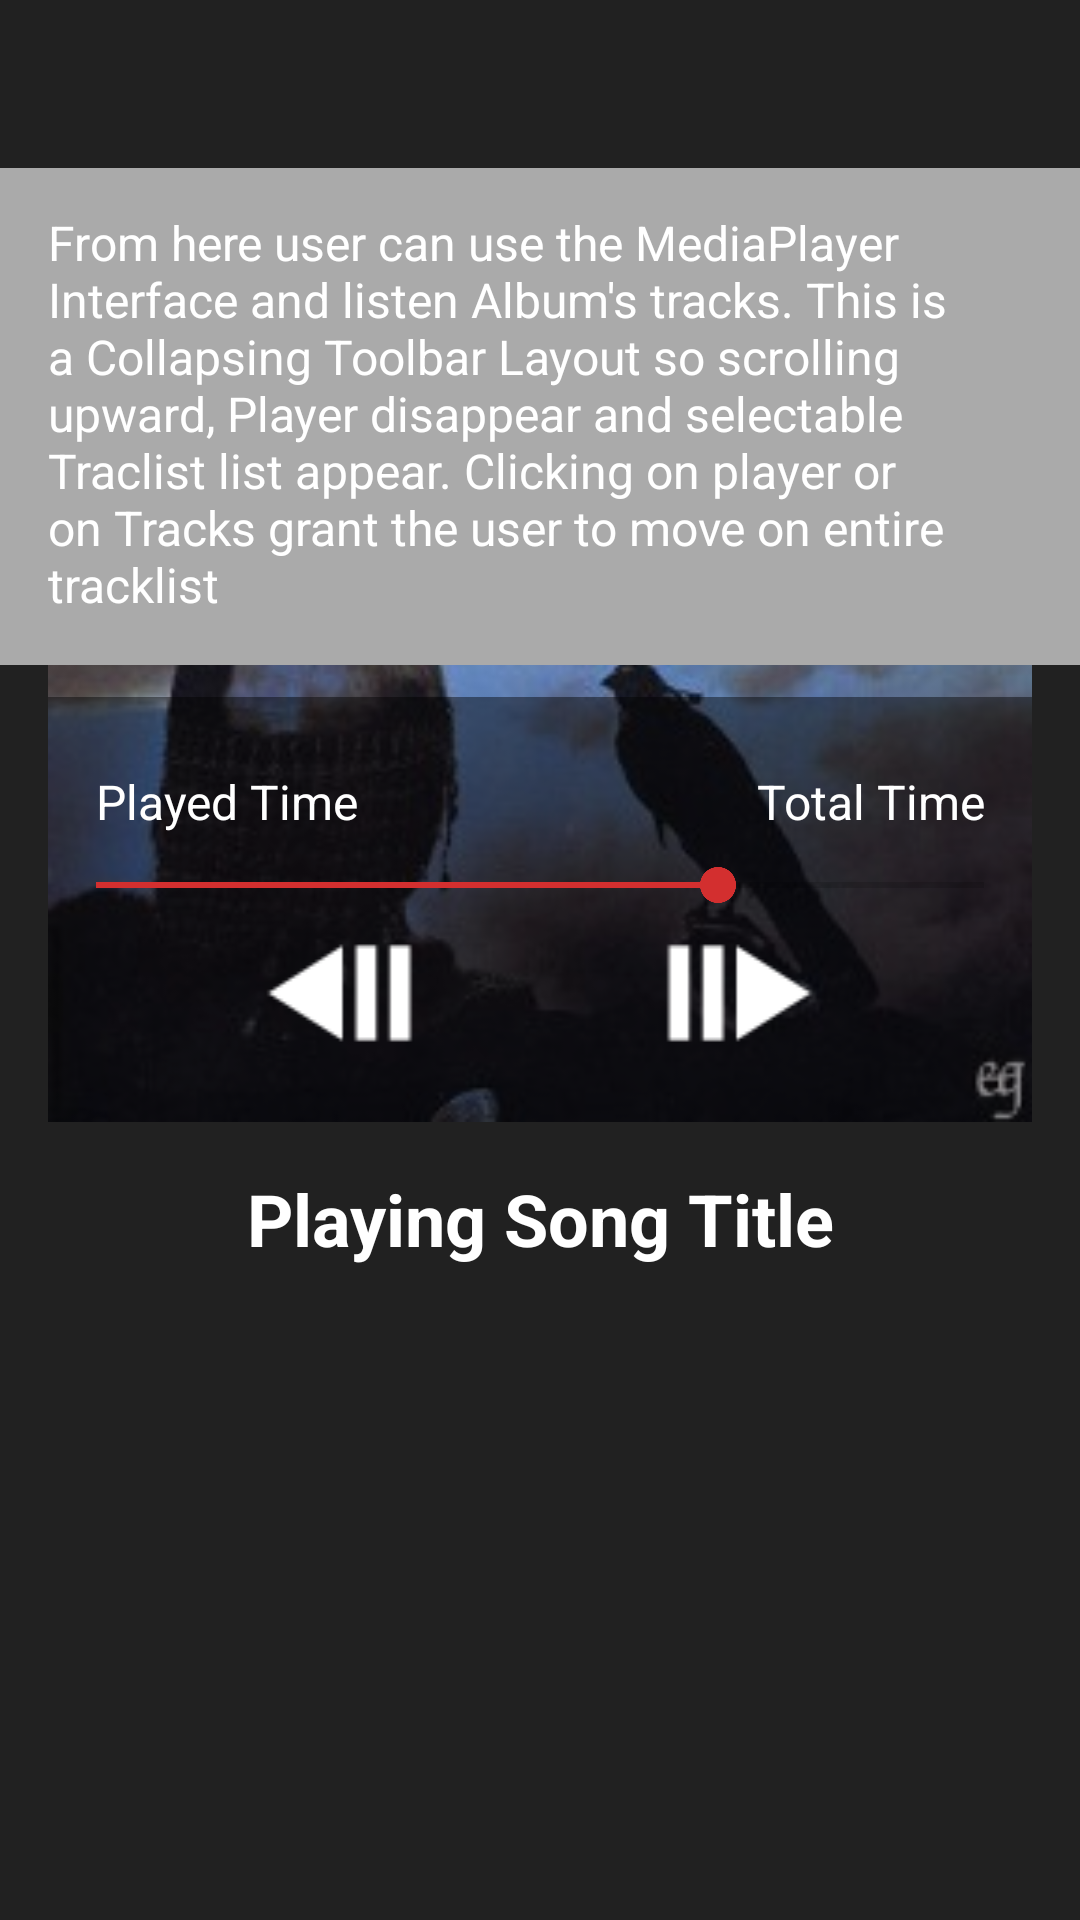

Icons on this 1080 × 1920 Android screen, each with its box as [x1,y1,x2,y2]:
step backward: [248,944,413,1042]
step forward button: [666,912,813,1042]
